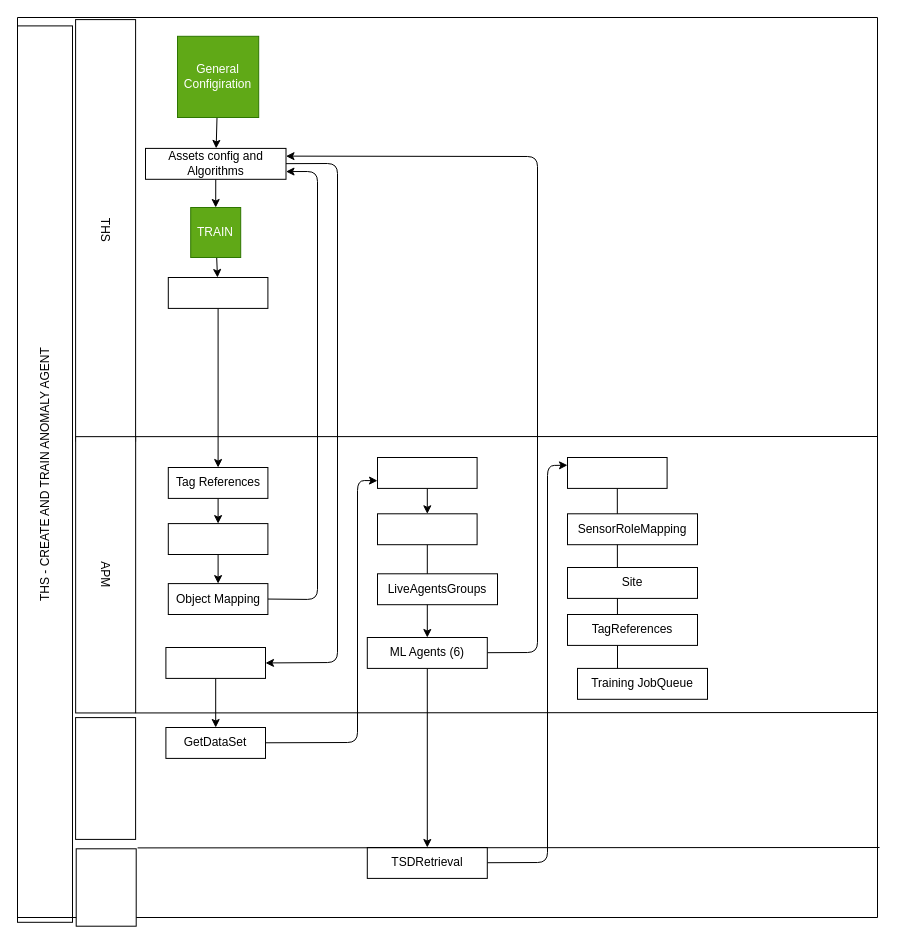
This 898x944 diagram has some shape labels left out. The shapes that lost their labels are listed below. From the top down, each one's box as (x1, y1, x2, y2) in pixels, then its label:
(167, 276, 268, 308): Save Agent
(376, 456, 477, 488): Granurality
(566, 456, 667, 488): SensorsGroup
(167, 523, 268, 554): MLAgents
(376, 513, 477, 545): LiveAgents
(165, 646, 266, 678): Customer Events
(75, 717, 136, 839): PDR
(75, 848, 136, 926): TSD
